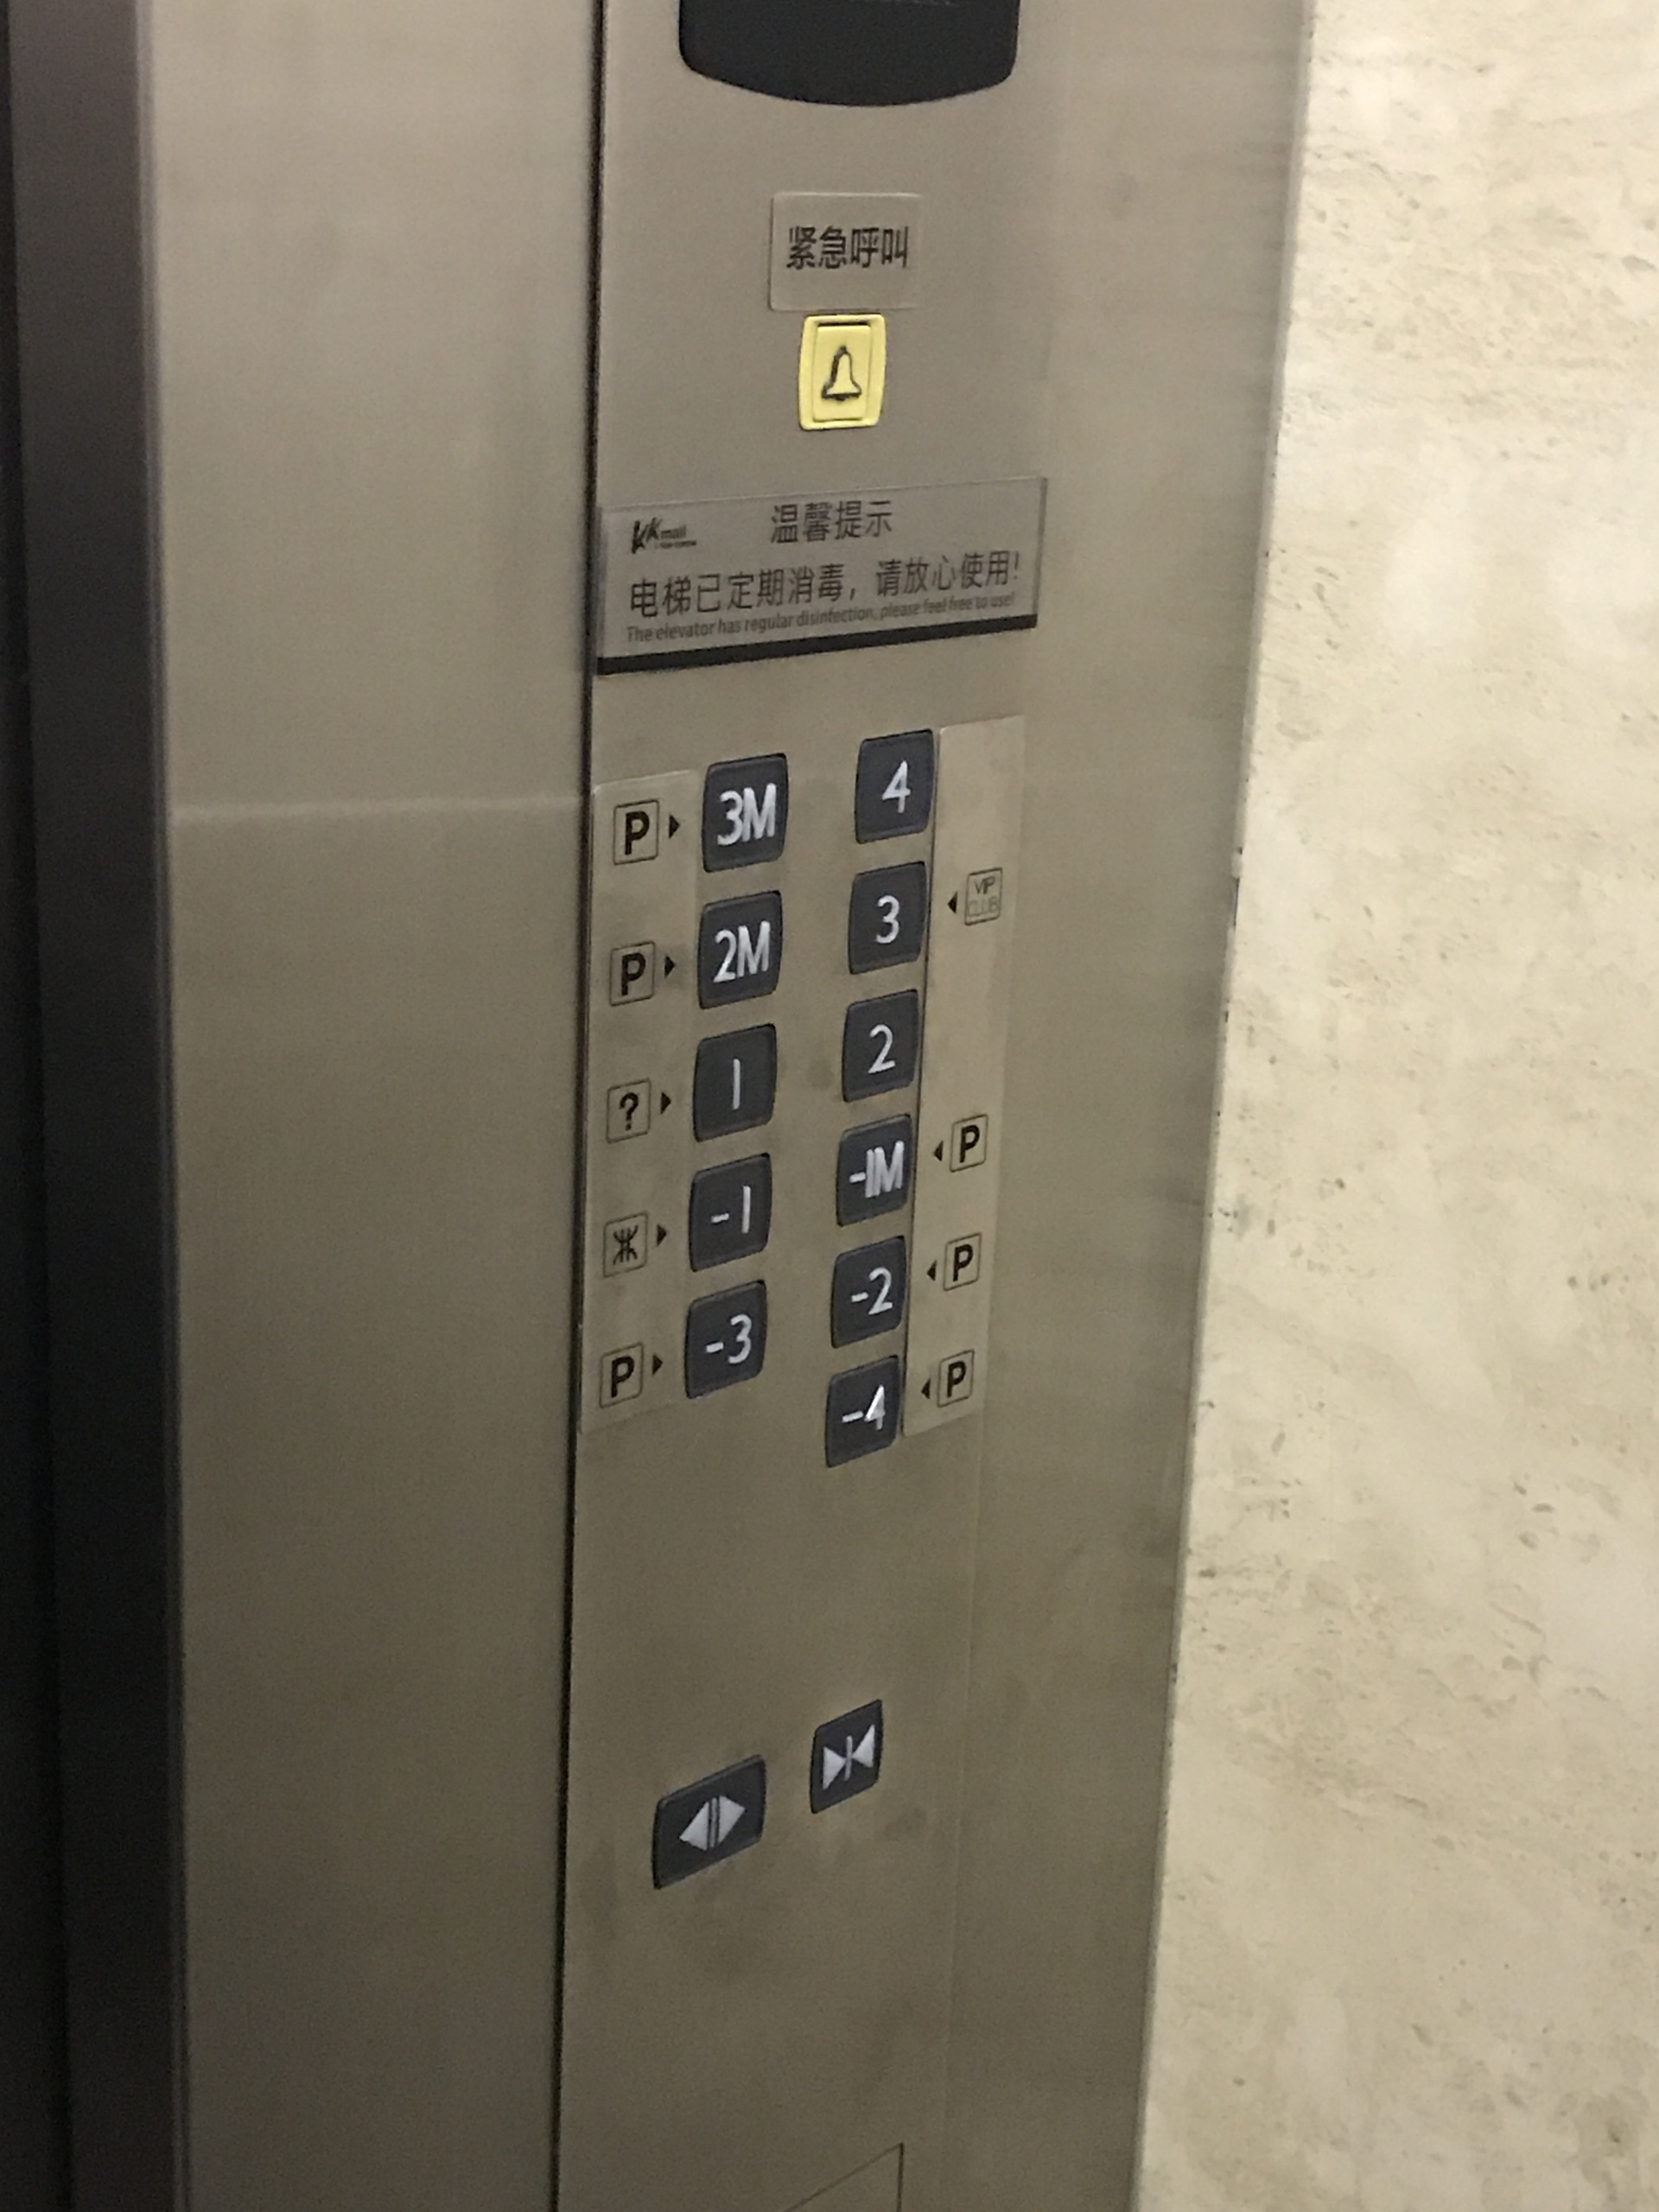-1: (685, 1150, 775, 1275)
-1M: (831, 1108, 917, 1231)
-2: (828, 1231, 911, 1350)
-3: (680, 1275, 770, 1400)
-4: (821, 1352, 904, 1470)
1: (688, 1017, 781, 1146)
2: (835, 981, 924, 1103)
2M: (694, 885, 786, 1012)
3: (842, 855, 931, 977)
3M: (695, 745, 795, 878)
4: (850, 725, 938, 846)
alarm: (796, 310, 889, 434)
close: (805, 1695, 887, 1818)
open: (647, 1750, 770, 1895)
